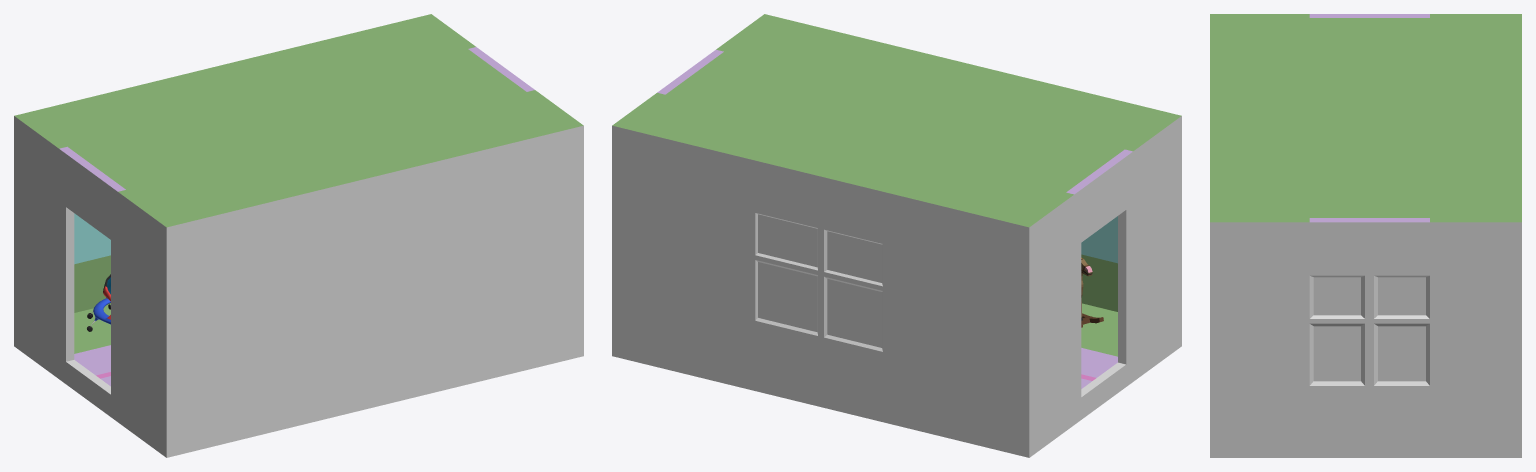
File: babyscene.fbx
The picture shows the model from 3 angles, left to right: view 1: azimuth 30°, elevation 25°; view 2: azimuth 150°, elevation 25°; view 3: azimuth 270°, elevation 25°; orthographic projection. The views are drawn at different scales.
Parts seen in each view (by area): view 1: Cube; view 2: Cube; view 3: Cube.
Part boxes in pixels (x1,y1,x2,y2): Cube: [14, 14, 583, 457]; Cube: [612, 14, 1181, 457]; Cube: [1210, 14, 1521, 457].
Bounding box in the file's own units: 4052 × 2139 × 2565.
